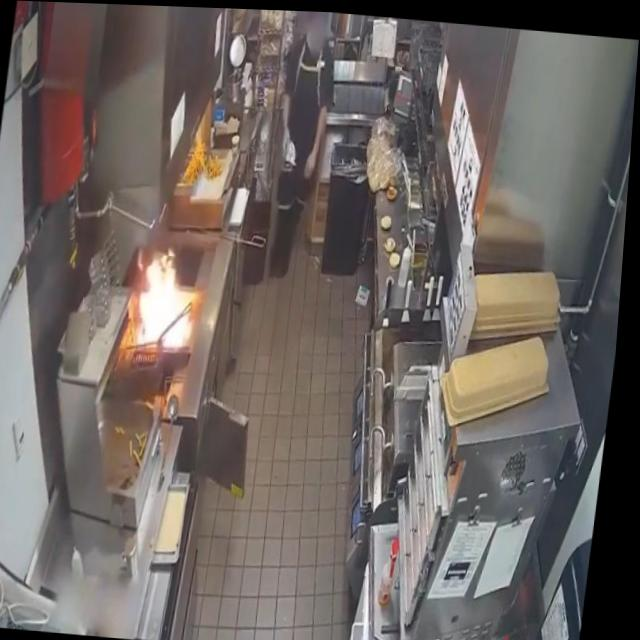fire: (130, 238, 207, 358)
